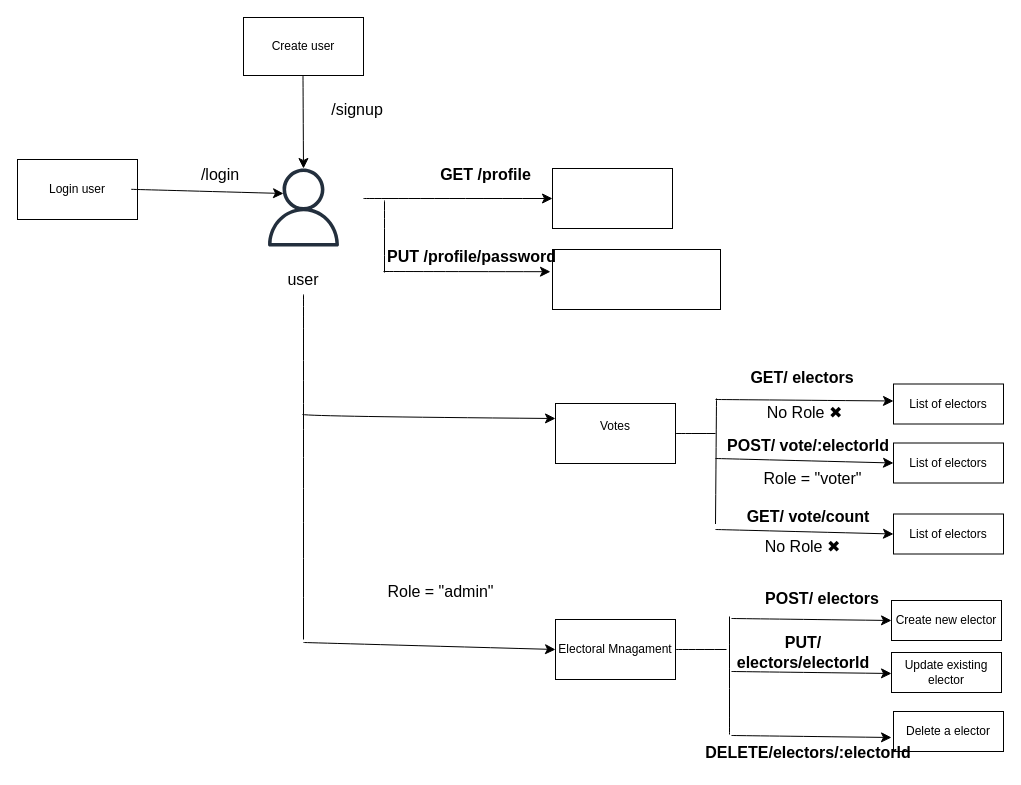
Image size: 1021x785. Some labels were removed from this diagram. Here are the shapes that lost their labels. From the top down, the centre of each, then its label:
At point (612, 198): "Access is profile".
At point (636, 279): "Profile Password change".
